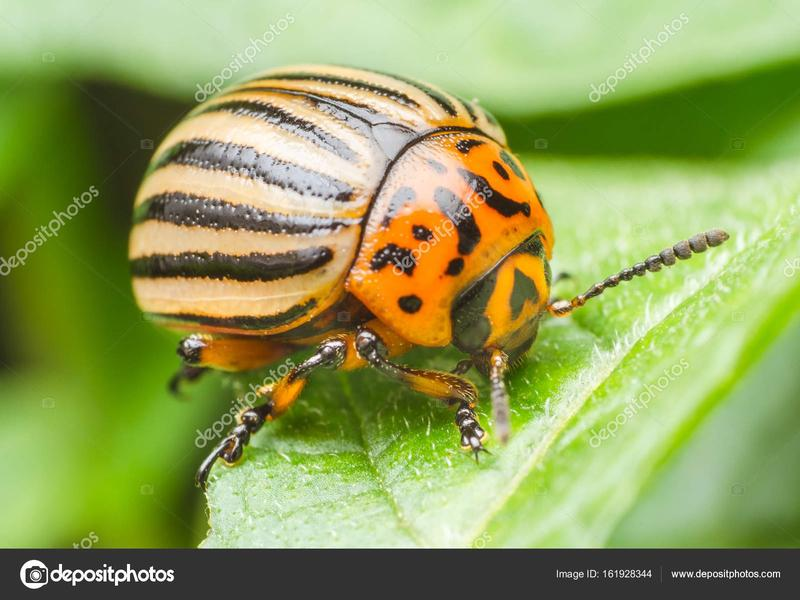hrosc: (132, 54, 568, 449)
